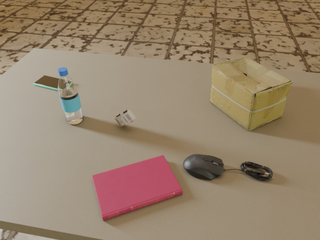book: (92, 155, 183, 220)
bottle: (58, 67, 83, 124)
box: (210, 57, 292, 131)
mouse: (183, 154, 226, 180)
phone: (34, 75, 59, 91)
toy_car: (115, 110, 136, 126)
